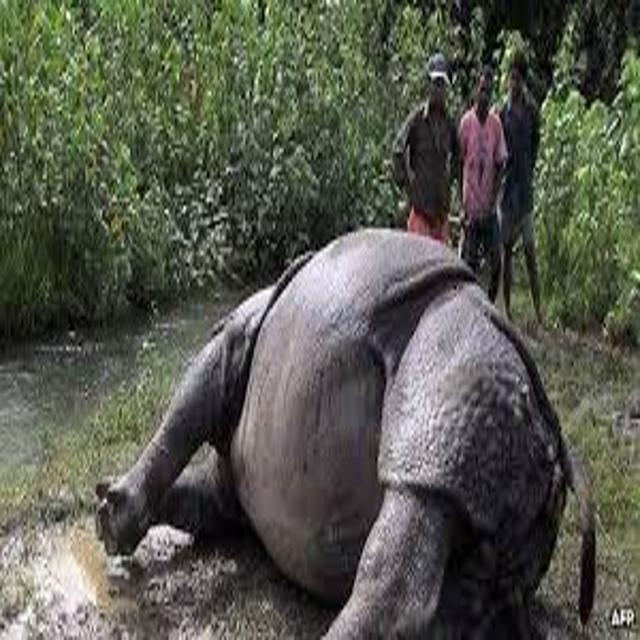Rinoceros: (56, 226, 600, 622)
